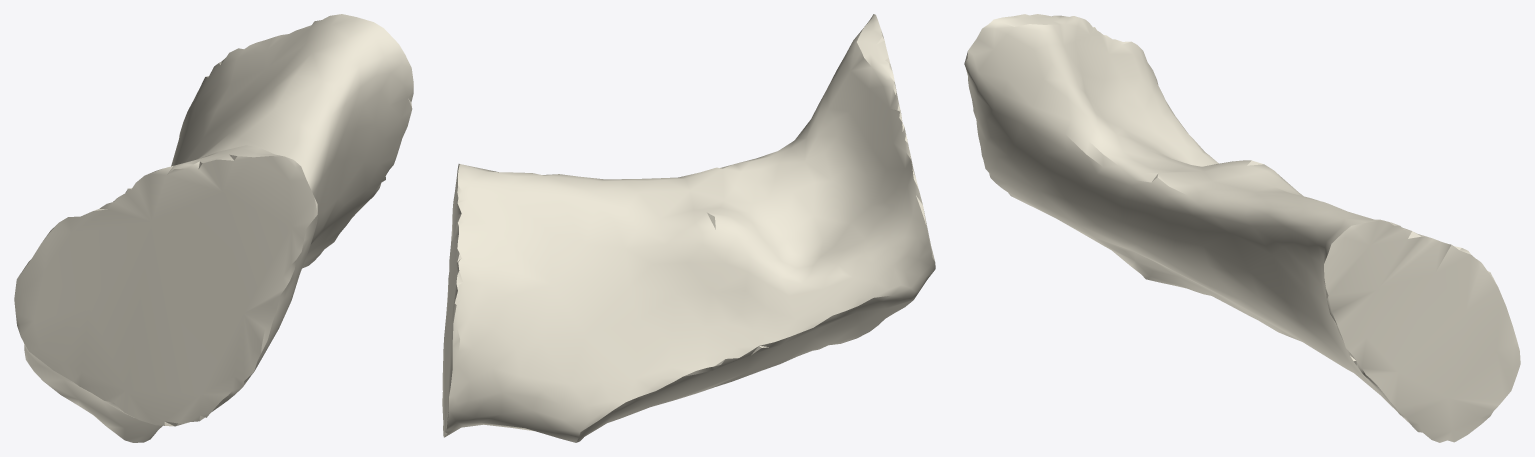
Rendered from fma16177_mm2335m.glb.
3 views of the same model, side by side, from view 1: azimuth 30°, elevation 25°; view 2: azimuth 150°, elevation 25°; view 3: azimuth 270°, elevation 25° (orthographic). The views are drawn at different scales.
Visible parts, largest first — view 1: FMA16177_MM2335M; view 2: FMA16177_MM2335M; view 3: FMA16177_MM2335M.
Boxes of the visible parts, x1=… form: FMA16177_MM2335M: x1=14, y1=14, x2=413, y2=442; FMA16177_MM2335M: x1=442, y1=14, x2=935, y2=442; FMA16177_MM2335M: x1=964, y1=14, x2=1520, y2=442.
Size of the model in its own units: 0.0223 by 0.0167 by 0.0264.
